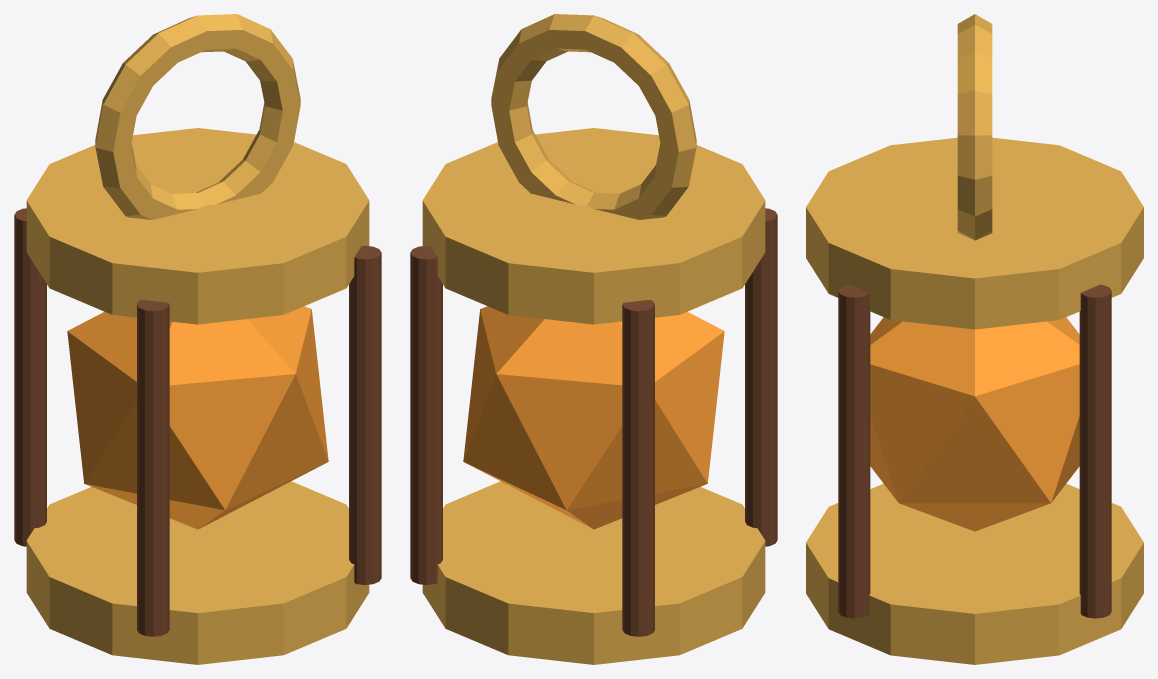
Rendered from ember-lantern-1.glb.
The picture shows the model from 3 angles, left to right: view 1: azimuth 30°, elevation 25°; view 2: azimuth 150°, elevation 25°; view 3: azimuth 270°, elevation 25°; orthographic projection.
Visible parts, largest first — view 1: Cylinder.001, Cylinder, Icosphere, Torus.005, Cylinder.002, Cylinder.003, Cylinder.004; view 2: Cylinder.001, Cylinder, Icosphere, Torus.005, Cylinder.004, Cylinder.005, Cylinder.002; view 3: Cylinder.001, Cylinder, Icosphere, Cylinder.003, Cylinder.005, Torus.005.
Boxes of the visible parts, left/top/right/bottom form: Cylinder.001: left=26, top=128, right=369, bottom=324; Cylinder: left=26, top=481, right=369, bottom=664; Icosphere: left=67, top=306, right=328, bottom=529; Torus.005: left=95, top=14, right=300, bottom=219; Cylinder.002: left=137, top=300, right=169, bottom=636; Cylinder.003: left=349, top=245, right=381, bottom=584; Cylinder.004: left=14, top=208, right=46, bottom=546; Cylinder.001: left=422, top=128, right=765, bottom=324; Cylinder: left=422, top=481, right=765, bottom=664; Icosphere: left=463, top=306, right=724, bottom=529; Torus.005: left=491, top=14, right=696, bottom=219; Cylinder.004: left=622, top=300, right=654, bottom=636; Cylinder.005: left=410, top=245, right=442, bottom=584; Cylinder.002: left=745, top=208, right=777, bottom=546; Cylinder.001: left=806, top=137, right=1143, bottom=329; Cylinder: left=806, top=483, right=1143, bottom=664; Icosphere: left=870, top=317, right=1079, bottom=531; Cylinder.003: left=838, top=284, right=870, bottom=618; Cylinder.005: left=1079, top=284, right=1111, bottom=618; Torus.005: left=957, top=14, right=992, bottom=240.
Bounding box in the file's own units: 0.42 × 0.78 × 0.42.
